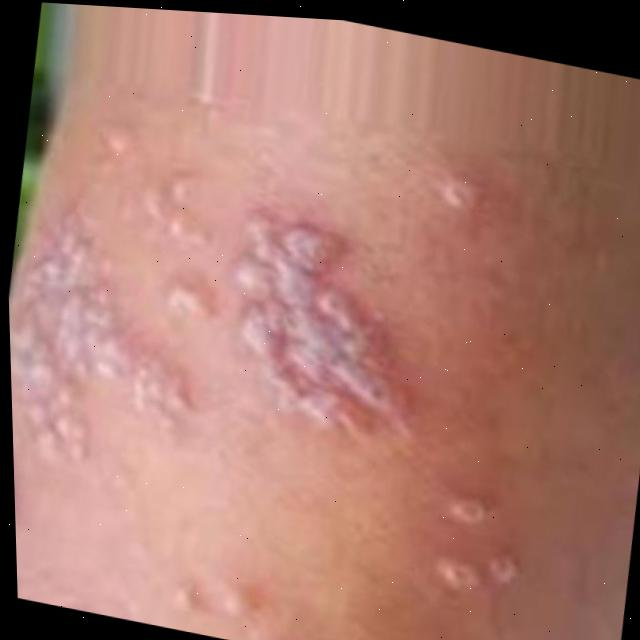Shingles: (4, 143, 423, 605), (428, 496, 524, 601)
